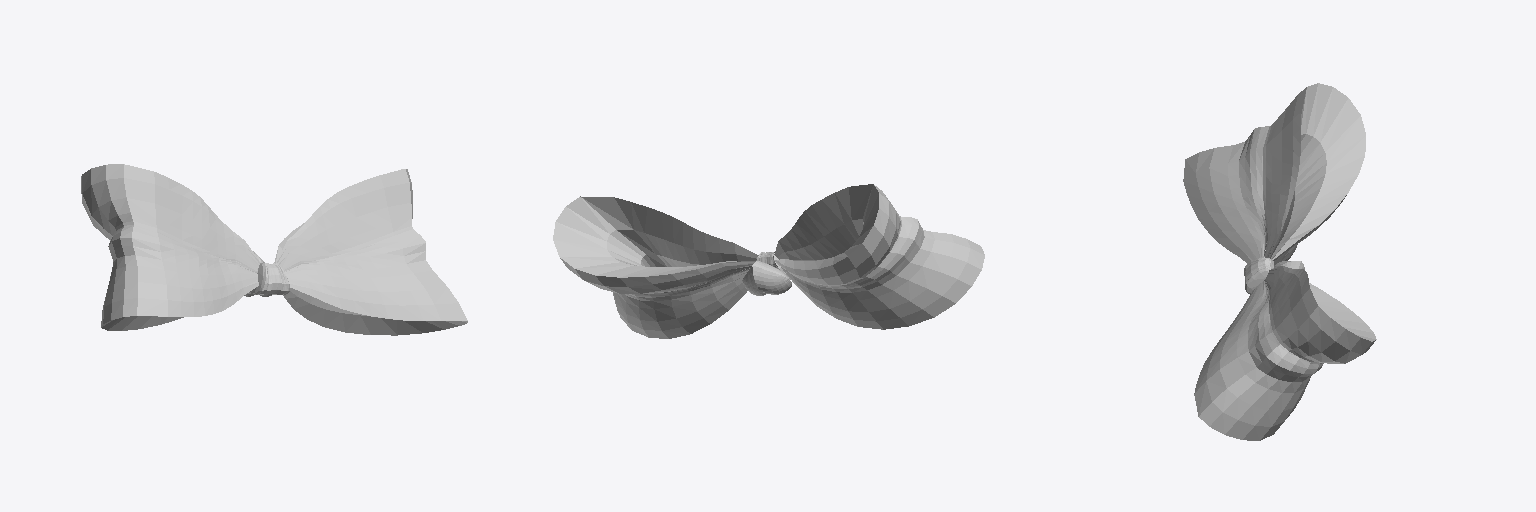
File: nui-harime-bow.obj
3 views of the same model, side by side, from view 1: azimuth 30°, elevation 25°; view 2: azimuth 150°, elevation 25°; view 3: azimuth 270°, elevation 25° (orthographic).
Parts seen in each view (by area): view 1: nui_harime_bow_nui_harime_bow; view 2: nui_harime_bow_nui_harime_bow; view 3: nui_harime_bow_nui_harime_bow.
Part boxes in pixels (x1,y1,x2,y2): nui_harime_bow_nui_harime_bow: (81, 164, 467, 335); nui_harime_bow_nui_harime_bow: (553, 184, 984, 338); nui_harime_bow_nui_harime_bow: (1183, 83, 1376, 440).
Bounding box in the file's own units: 0.0016 × 0.001 × 0.0008.